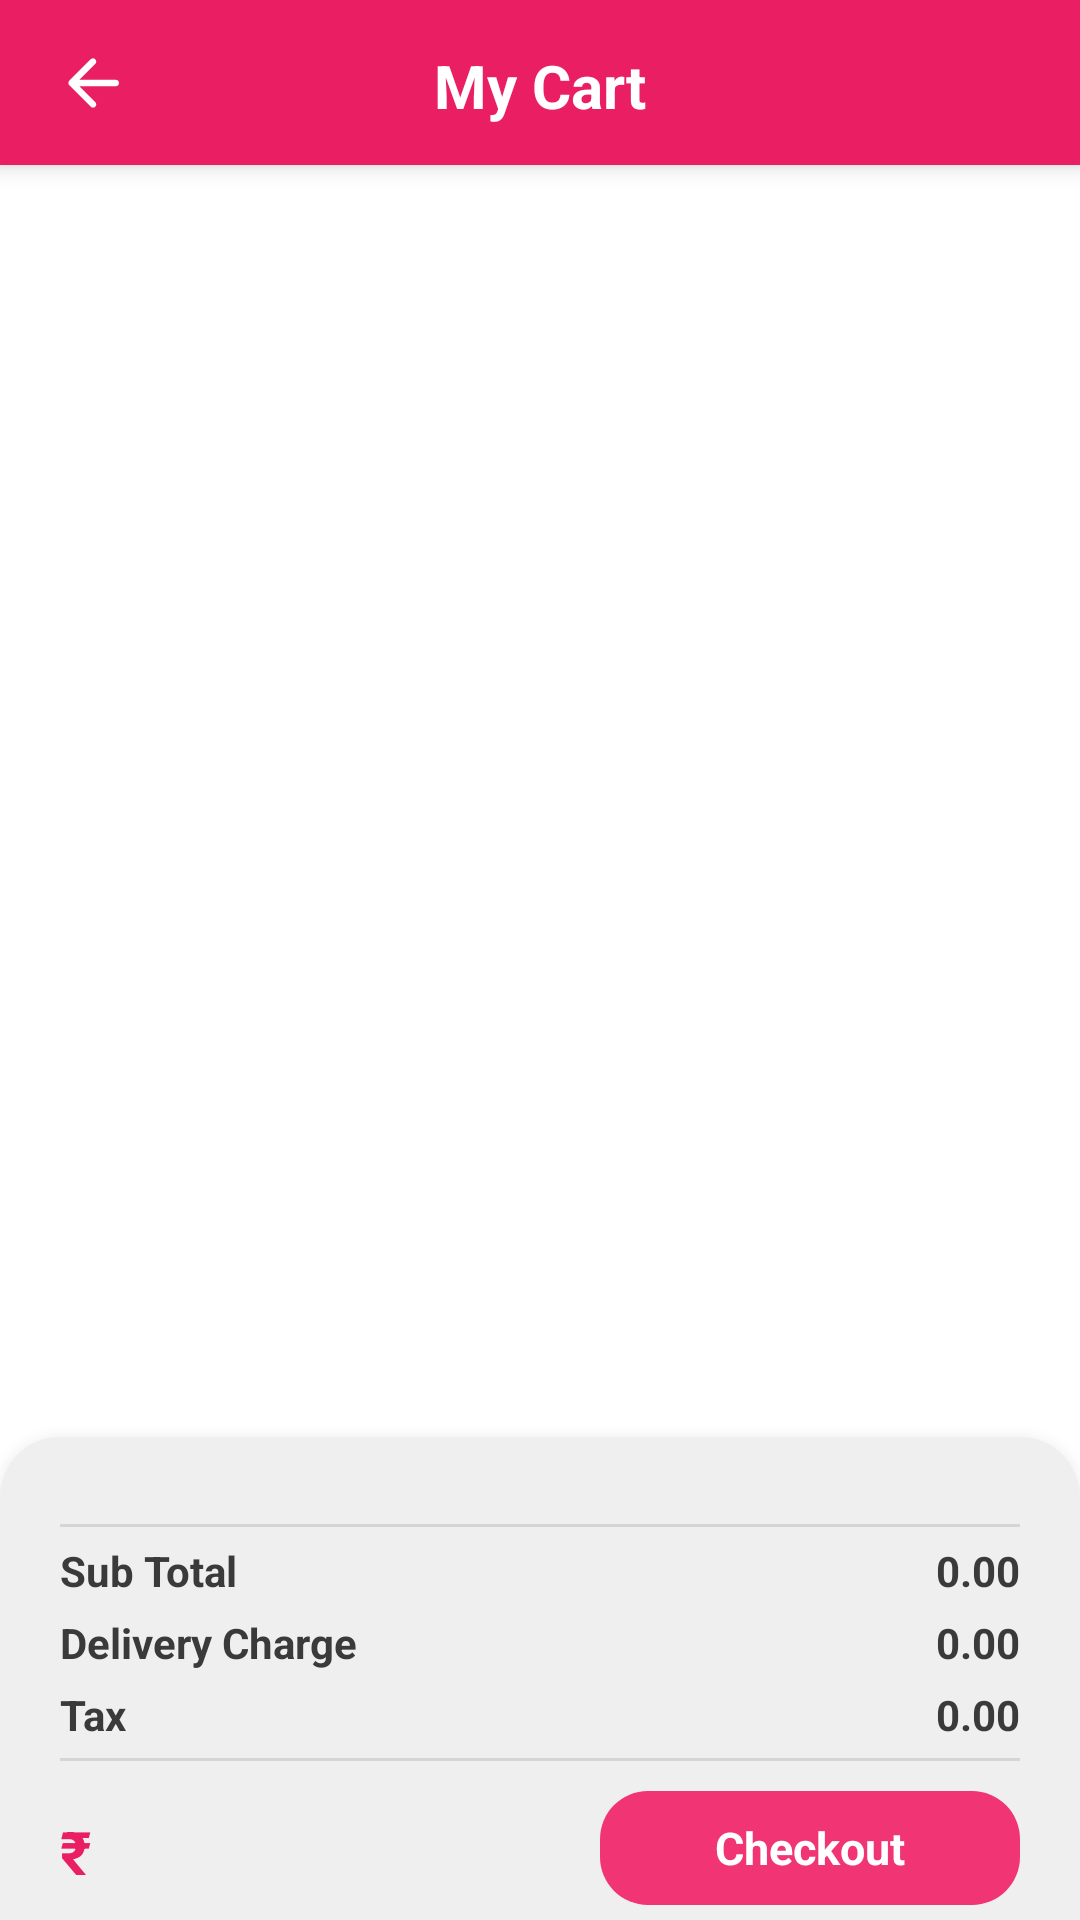

Screen size 1080px x 1920px. Icon name, then its box in pixels as detection(x1, y1, x2, y2):
arrow back: detection(68, 58, 119, 108)
